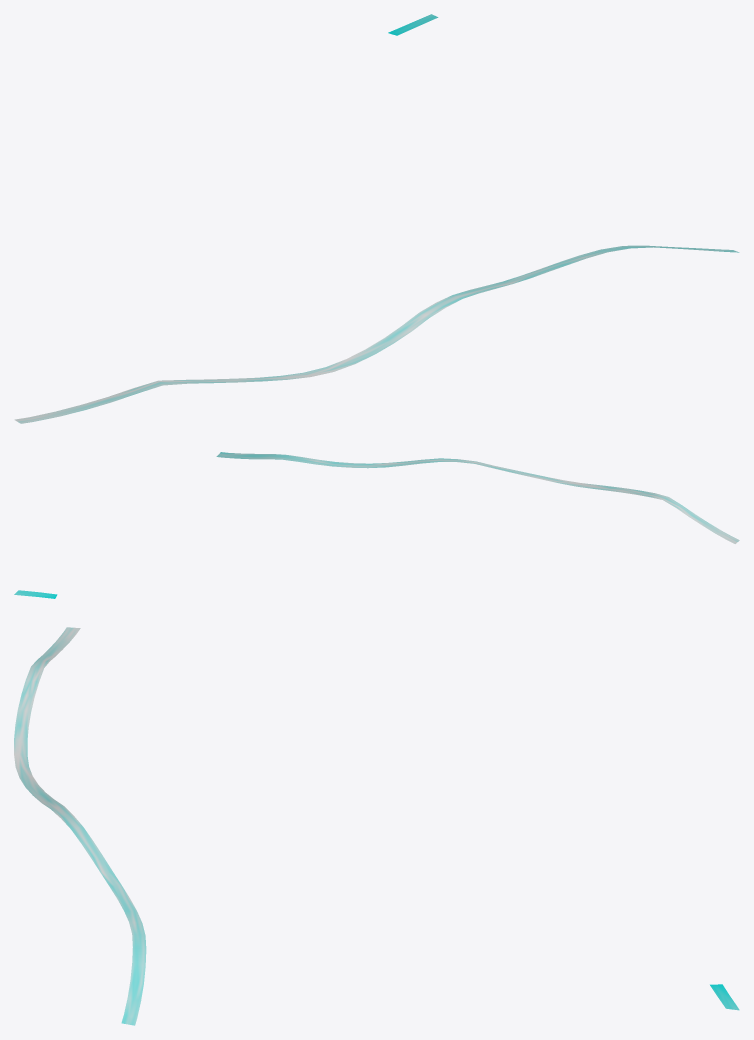
3 renders of one model, top to bottom at view 1: azimuth 30°, elevation 25°; view 2: azimuth 150°, elevation 25°; view 3: azimuth 270°, elevation 25°, orthographic. The views are drawn at different scales.
Visible parts, largest first — view 1: SpaceCenter_Long3_GenerateRoad_Sand_TireTracks_Width_Mesh_x1; view 2: SpaceCenter_Long3_GenerateRoad_Sand_TireTracks_Width_Mesh_x1; view 3: SpaceCenter_Long3_GenerateRoad_Sand_TireTracks_Width_Mesh_x1.
Part boxes in pixels (<box>): SpaceCenter_Long3_GenerateRoad_Sand_TireTracks_Width_Mesh_x1: <box>14,14,739,423</box>; SpaceCenter_Long3_GenerateRoad_Sand_TireTracks_Width_Mesh_x1: <box>14,452,739,598</box>; SpaceCenter_Long3_GenerateRoad_Sand_TireTracks_Width_Mesh_x1: <box>14,627,739,1025</box>.
Size of the model in its own units: 1935 by 2304 by 160.
